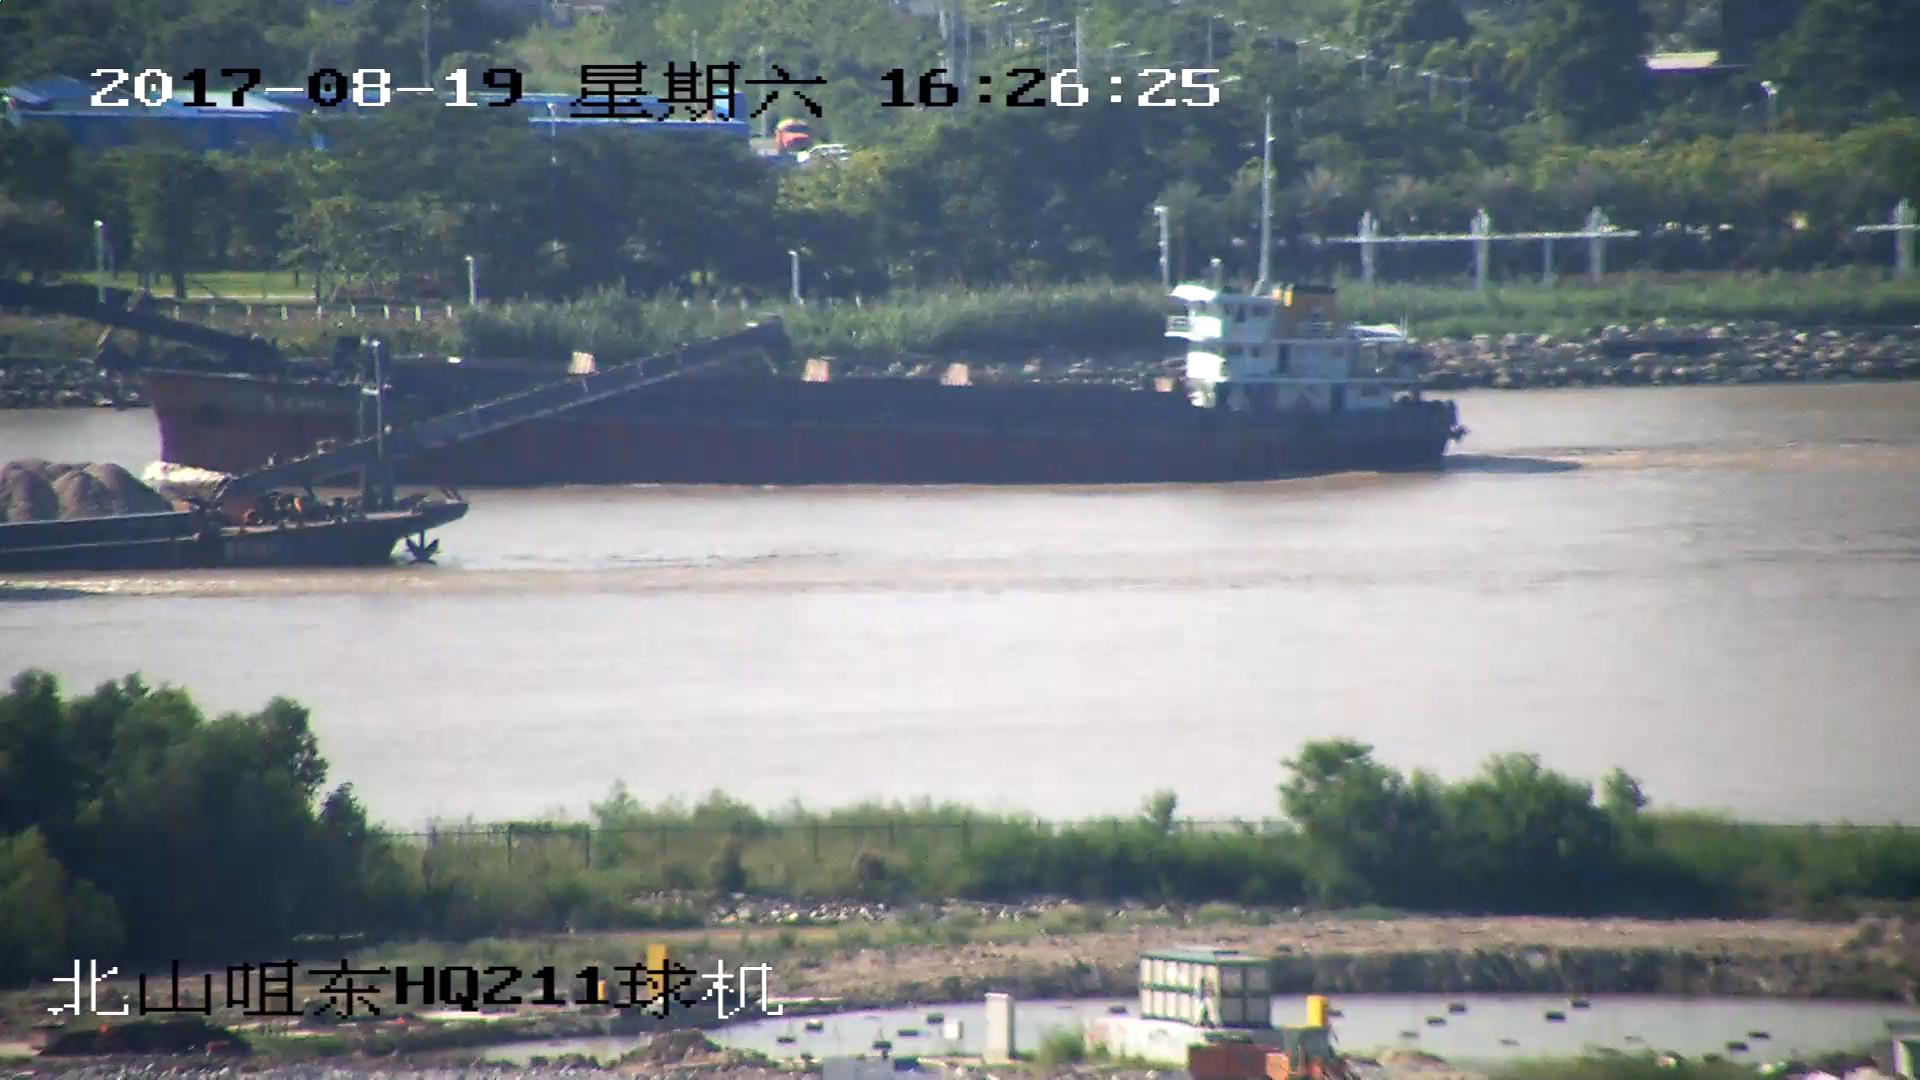bulk cargo carrier: (1, 250, 1459, 477)
ore carrier: (1, 318, 778, 572)
